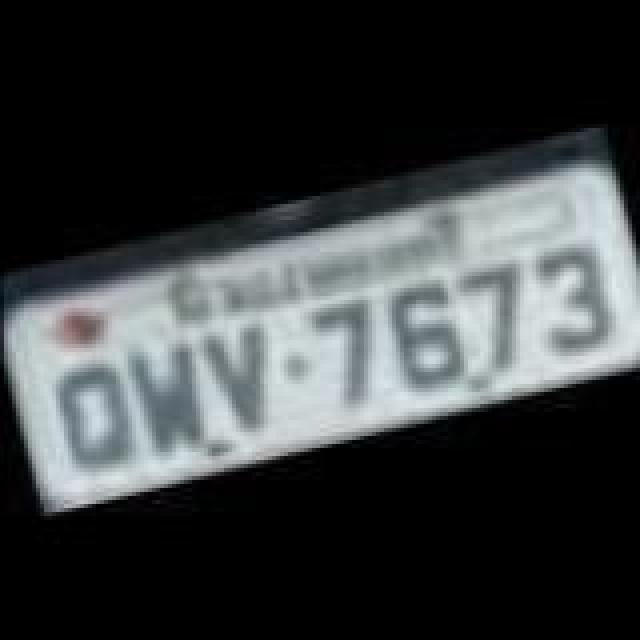3: (524, 238, 616, 354)
6: (378, 276, 474, 392)
7: (298, 292, 394, 412), (448, 252, 540, 372)
Q: (40, 350, 144, 474)
V: (192, 312, 292, 444)
W: (118, 328, 218, 460)
